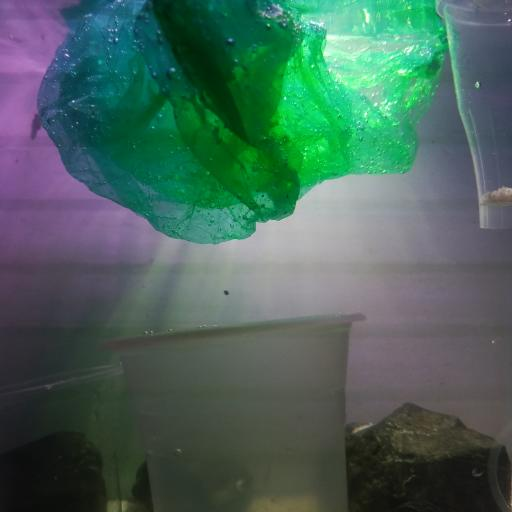plastic_bag: (35, 0, 448, 248)
plastic_cup: (97, 306, 366, 512), (1, 359, 124, 512), (435, 0, 512, 231), (487, 416, 512, 510)
